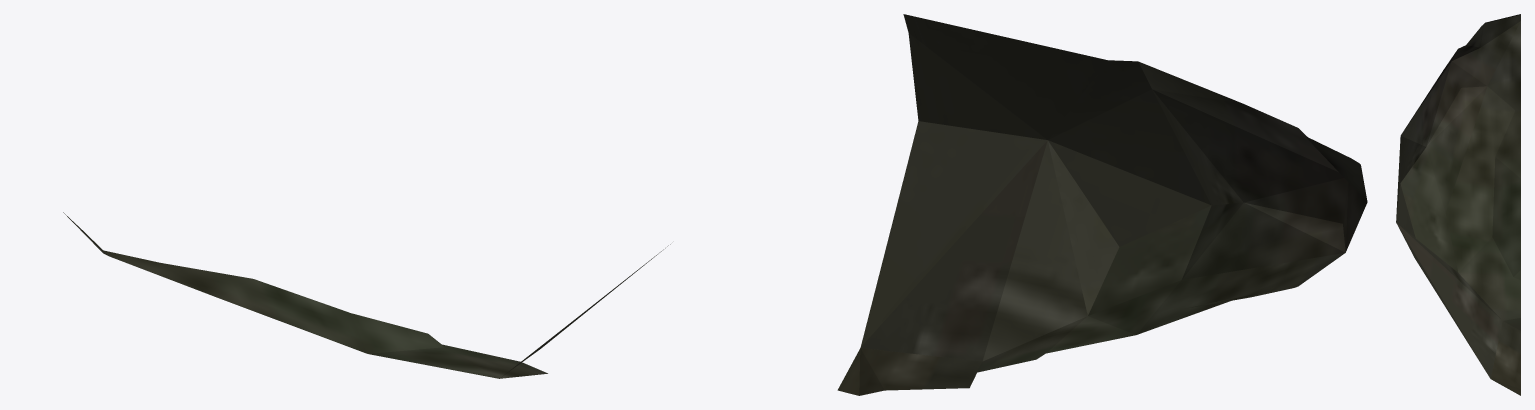
3 renders of one model, left to right at view 1: azimuth 30°, elevation 25°; view 2: azimuth 150°, elevation 25°; view 3: azimuth 270°, elevation 25°, orthographic. The views are drawn at different scales.
Bounding box in the file's own units: 1.11 × 0.6656 × 0.3499.
Materials: 1 (1 with a texture image).
